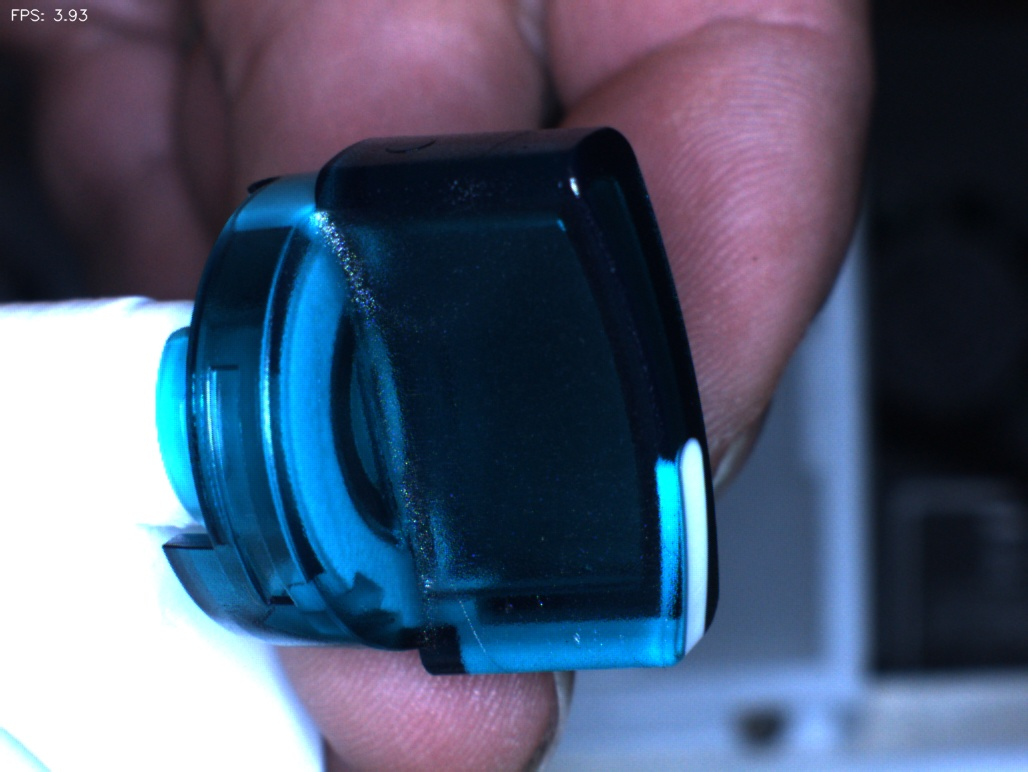Givrage: (516, 570, 629, 676)
